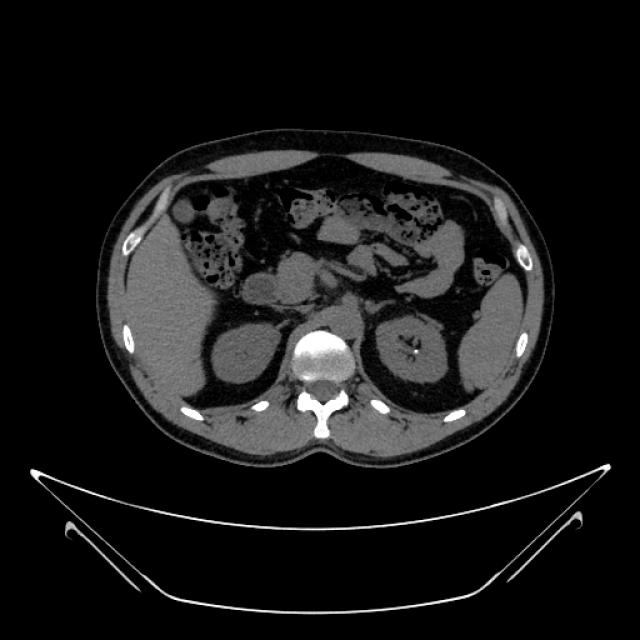kidneystone: (415, 339, 426, 362)
